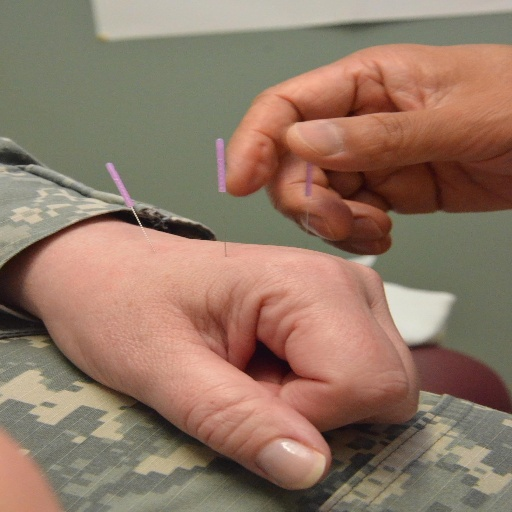hand: (19, 217, 422, 492), (223, 41, 511, 255)
